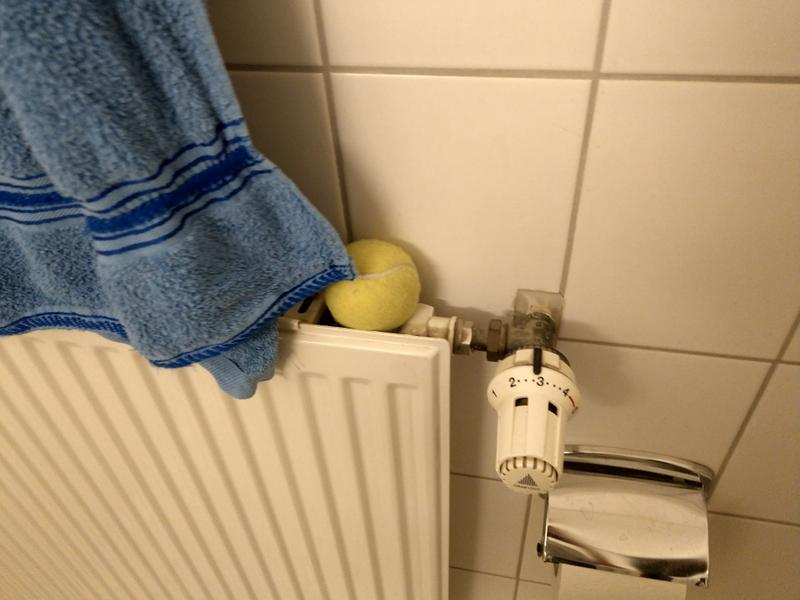Tennisball: (320, 234, 421, 337)
